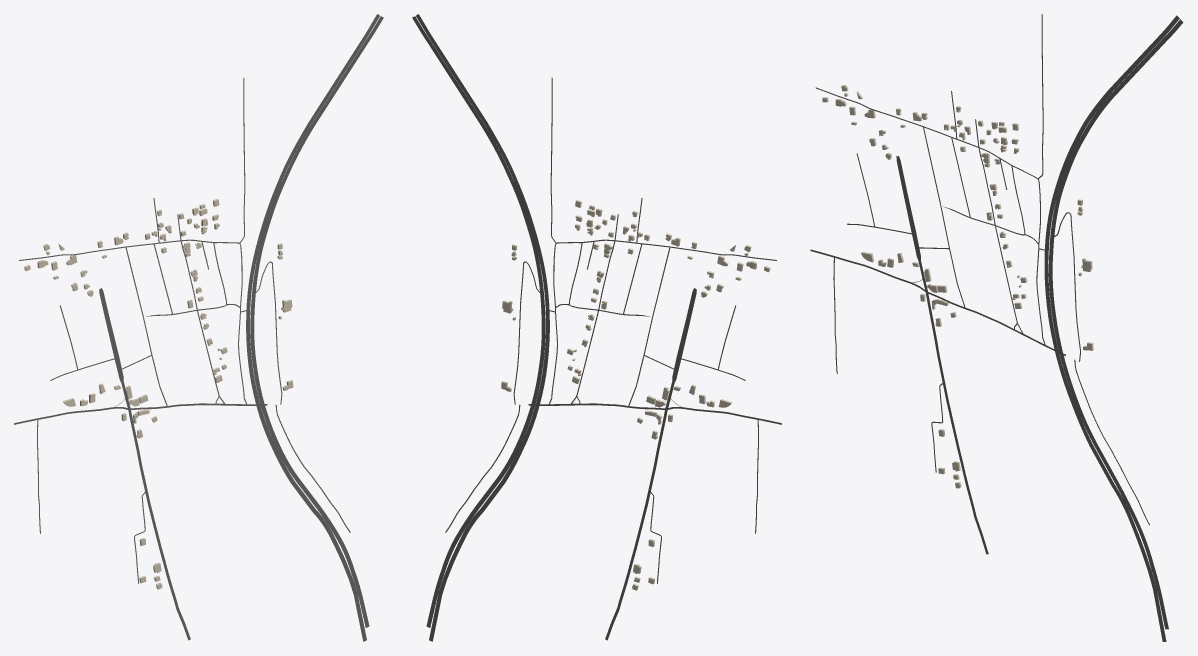
File: irbid_3580_3256.glb
3 renders of one model, left to right at view 1: azimuth 30°, elevation 25°; view 2: azimuth 150°, elevation 25°; view 3: azimuth 330°, elevation 25°, orthographic.
Parts seen in each view (by area): view 1: Road .024, Road .023, Road; view 2: Road .024, Road .023, Road; view 3: Road .024, Road .023, Road.
Boxes of the visible parts, box(x1,y1,x2,y2) form: Road .024: box(246, 14, 379, 641); Road .023: box(250, 16, 383, 627); Road: box(121, 381, 190, 640); Road .024: box(416, 14, 549, 641); Road .023: box(412, 16, 545, 627); Road: box(605, 381, 674, 640); Road .024: box(1044, 15, 1179, 641); Road .023: box(1048, 19, 1183, 629); Road: box(918, 261, 988, 554).
Size of the model in its own units: 1141 by 1841 by 8.7.
